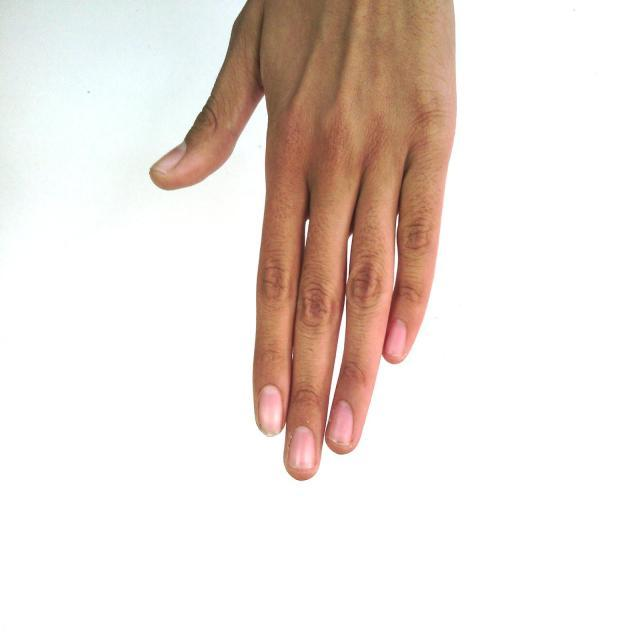Fingernail: (258, 385, 282, 435), (289, 426, 316, 470), (329, 400, 353, 444), (151, 145, 186, 174), (385, 320, 406, 358)
